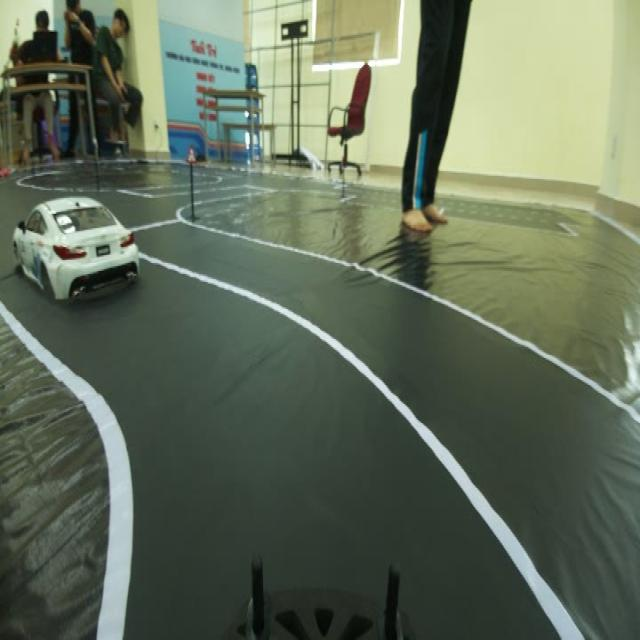car: (9, 187, 149, 310)
